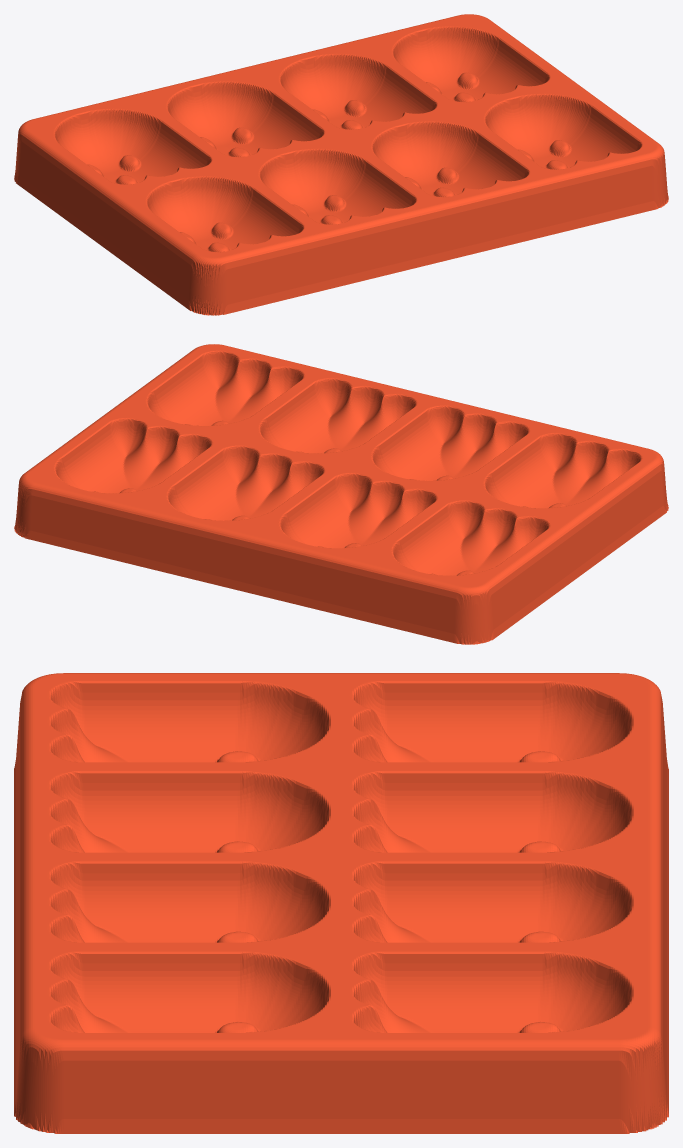
Rendered from mold.glb.
The picture shows the model from 3 angles, top to bottom: view 1: azimuth 30°, elevation 25°; view 2: azimuth 150°, elevation 25°; view 3: azimuth 270°, elevation 25°; orthographic projection. The views are drawn at different scales.
Visible parts, largest first — view 1: geometry_0; view 2: geometry_0; view 3: geometry_0.
Part boxes in pixels (x1,y1,x2,y2): geometry_0: [14, 14, 668, 315]; geometry_0: [14, 344, 668, 644]; geometry_0: [14, 673, 668, 1133].
Size of the model in its own units: 0.1668 by 0.0175 by 0.1209.
